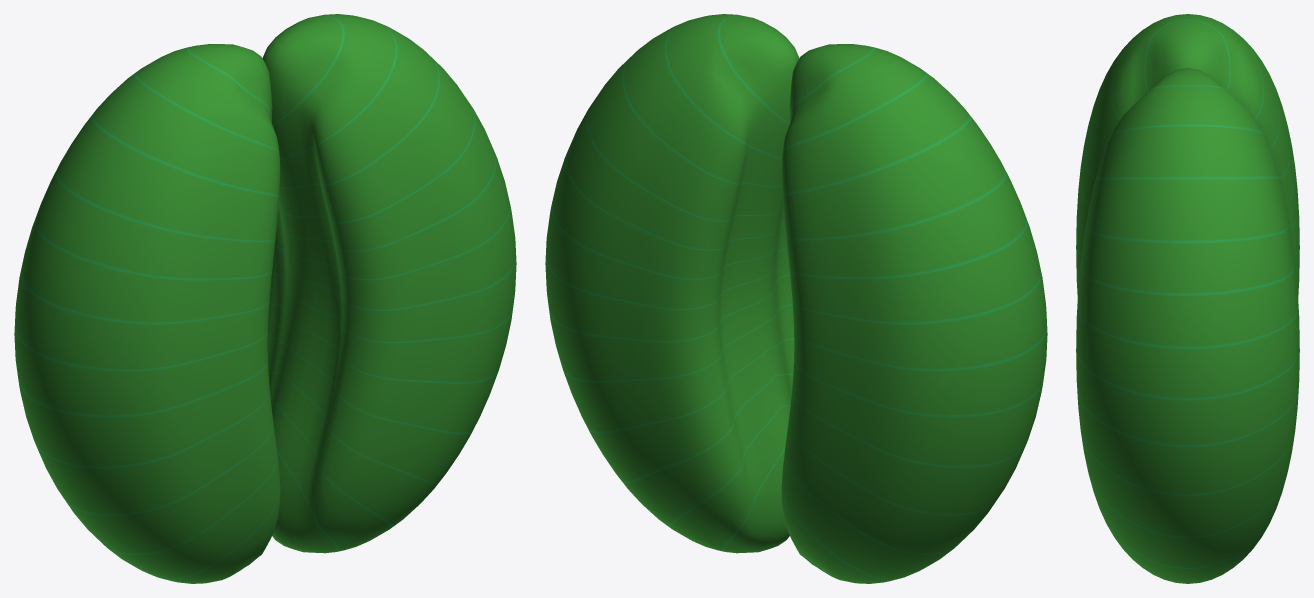
The model's file is bwxb.fbx.
3 views of the same model, side by side, from view 1: azimuth 30°, elevation 25°; view 2: azimuth 150°, elevation 25°; view 3: azimuth 270°, elevation 25° (orthographic). The views are drawn at different scales.
Visible parts, largest first — view 1: baoweixibao222:baoweixibao222:polySurface298, baoweixibao222:baoweixibao222:polySurface447; view 2: baoweixibao222:baoweixibao222:polySurface298, baoweixibao222:baoweixibao222:polySurface447; view 3: baoweixibao222:baoweixibao222:polySurface447, baoweixibao222:baoweixibao222:polySurface298.
Part boxes in pixels (x1,y1,x2,y2): baoweixibao222:baoweixibao222:polySurface298: [14, 44, 280, 583]; baoweixibao222:baoweixibao222:polySurface447: [262, 14, 516, 553]; baoweixibao222:baoweixibao222:polySurface298: [781, 44, 1047, 583]; baoweixibao222:baoweixibao222:polySurface447: [545, 14, 799, 553]; baoweixibao222:baoweixibao222:polySurface447: [1076, 68, 1299, 583]; baoweixibao222:baoweixibao222:polySurface298: [1076, 14, 1299, 296].
Size of the model in its own units: 8.13 by 8.63 by 3.54.
6 materials, 1 textured.
